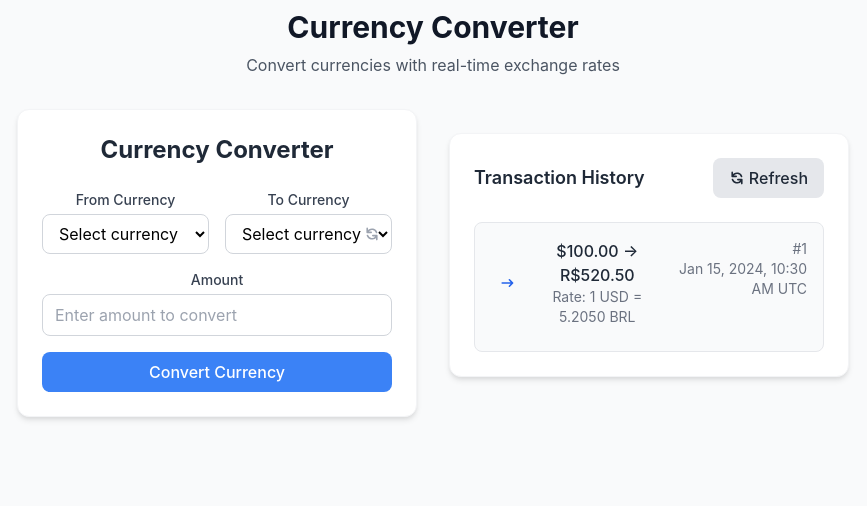
Test: Currency Converter App › should show validation errors for invalid inputs
Note: Try to submit empty form
Click the submit button.
click(217, 372)  # box [42,352,392,392]
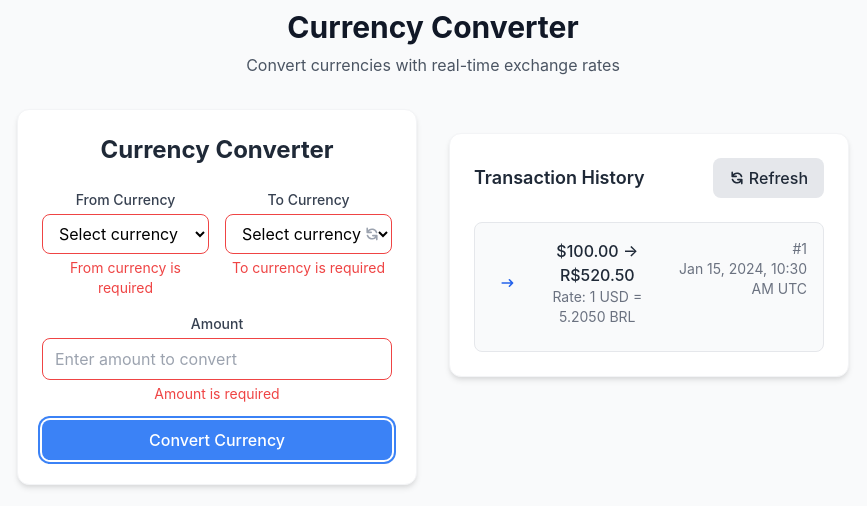
Check: the text "From currency is required" is shown, box [70,259,181,296]
